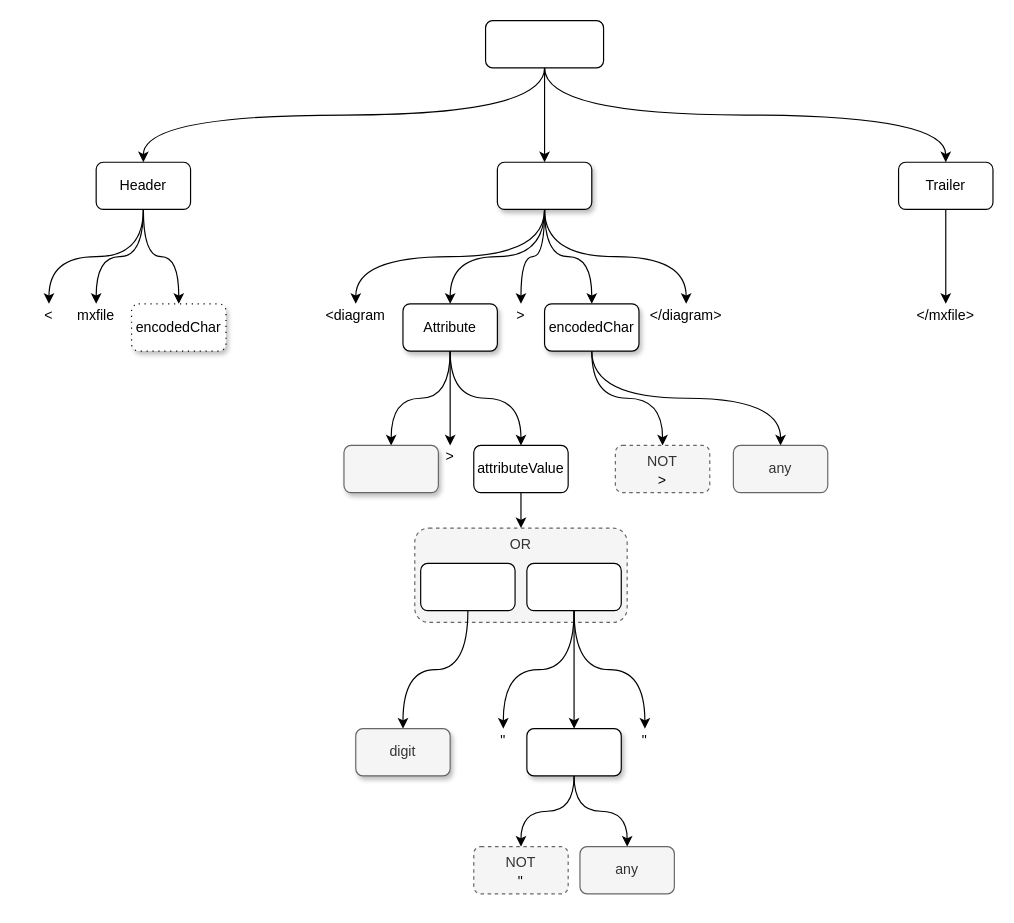
The diagram is 1014 pixels wide and 923 high, and some of its shapes have lost their labels. Here are the shapes that lost their labels. From the top down, the centre of each, then its label:
At pixel 544 43: "TabbedDiagrams".
At pixel 545 187: "Diagram".
At pixel 391 470: "alnum".
At pixel 467 586: "number".
At pixel 573 586: "string".
At pixel 574 753: "notDQ".
